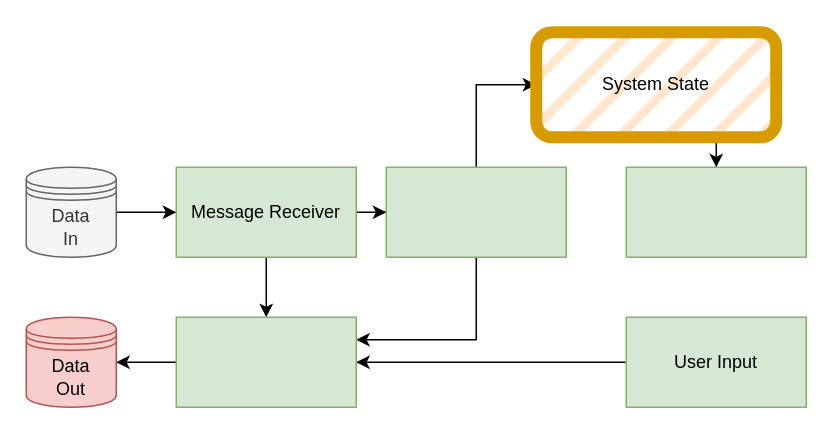
Image size: 833x434. Some labels were removed from this diagram. Here are the shapes that lost their labels. From the top down, the centre of each, then its label:
point (475, 211): State Manager
point (715, 211): State Display
point (265, 361): Message Handler
